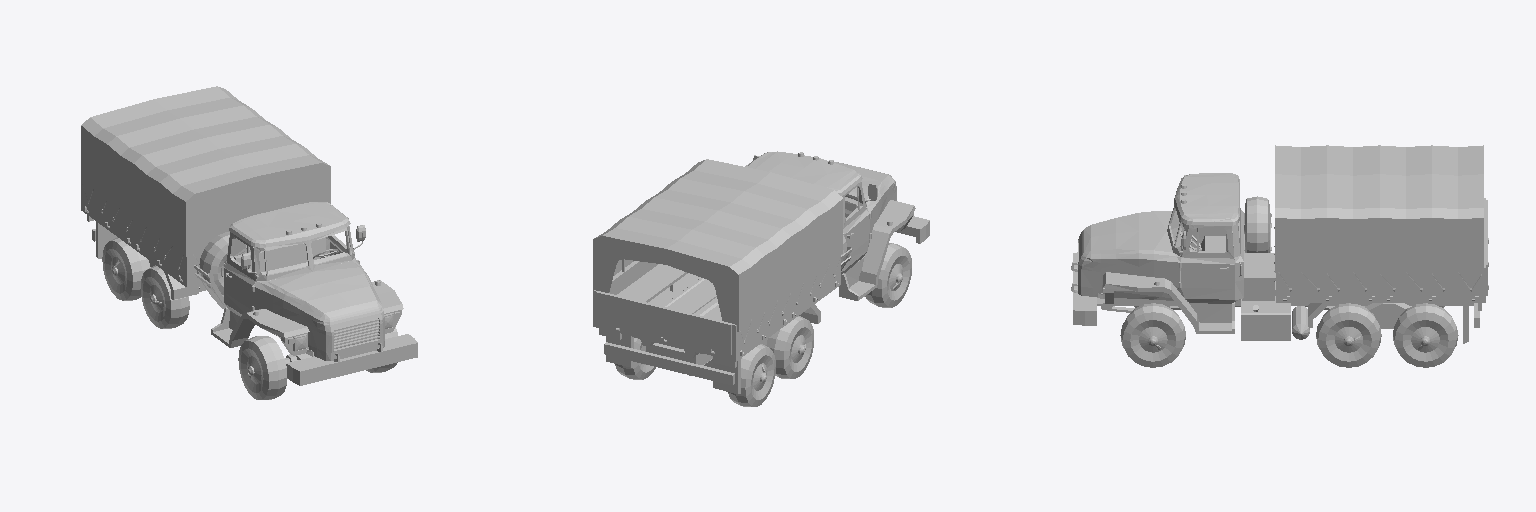
The model's file is Ural.obj.
The picture shows the model from 3 angles: view 1: azimuth 30°, elevation 25°; view 2: azimuth 150°, elevation 25°; view 3: azimuth 270°, elevation 25°; orthographic projection.
Visible parts, largest first — view 1: ural4320; view 2: ural4320; view 3: ural4320.
Boxes of the visible parts, <box> form: ural4320: <box>81,86,417,399</box>; ural4320: <box>593,151,929,406</box>; ural4320: <box>1071,145,1488,367</box>.
Bounding box in the file's own units: 3.06 × 3.27 × 7.57.